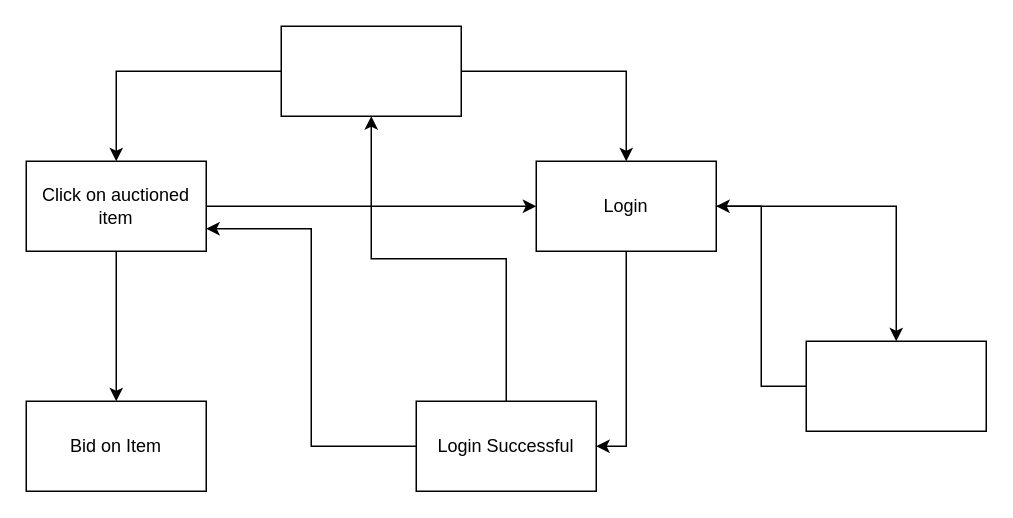
Some shapes in this 1013 by 518 pixel diagram are drawn without their labels. Here are the shapes that lost their labels. From the top down, the box of each, then its label:
(280, 25, 461, 116): Auction Page
(805, 340, 986, 431): Login Failed
